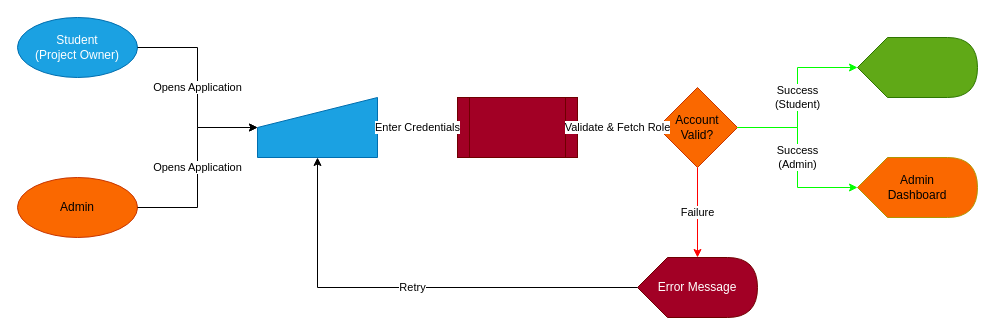
The diagram is 995 pixels wide and 335 high, and some of its shapes have lost their labels. Each missing label, with the centre of its shape:
DISAL Auth: point 517,127
Login Page: point 317,127
Student Dashboard: point 917,67
